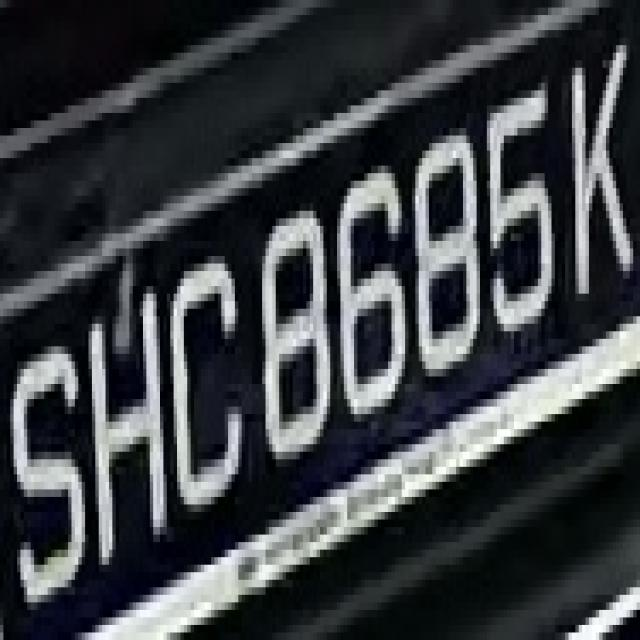5: (484, 68, 558, 346)
6: (320, 136, 412, 444)
8: (402, 105, 494, 399), (249, 188, 330, 497)
C: (160, 218, 245, 534)
H: (85, 271, 177, 565)
K: (558, 15, 626, 301)
S: (14, 316, 85, 640)
